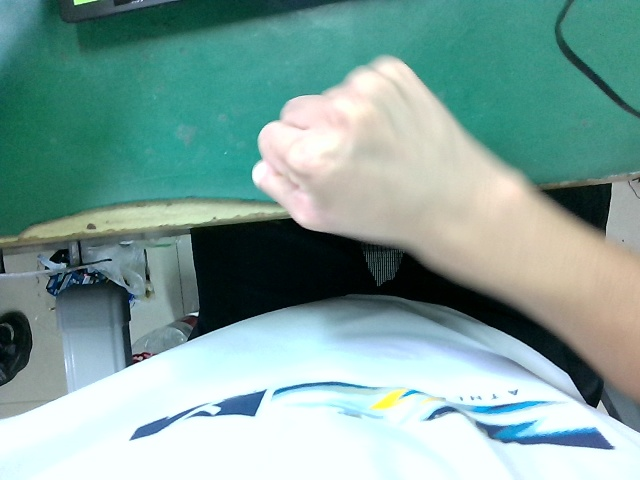stone: (249, 48, 504, 280)
